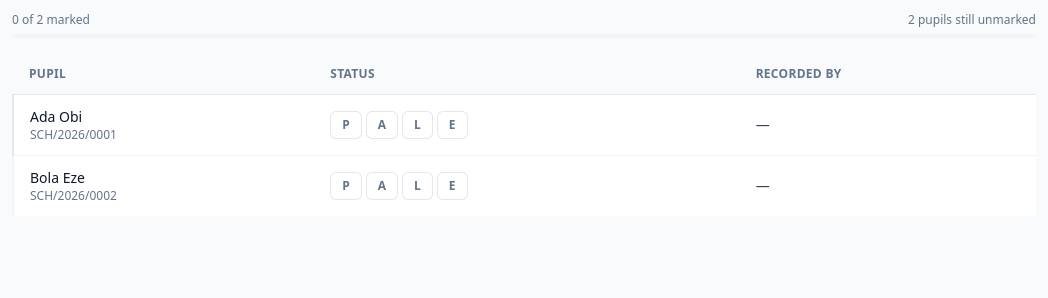
AttendanceRegisterGrid › keeps Mark register disabled while some students are still unmarked
Click the radio button named "Present".
click(346, 125)  # box [330, 111, 362, 139]
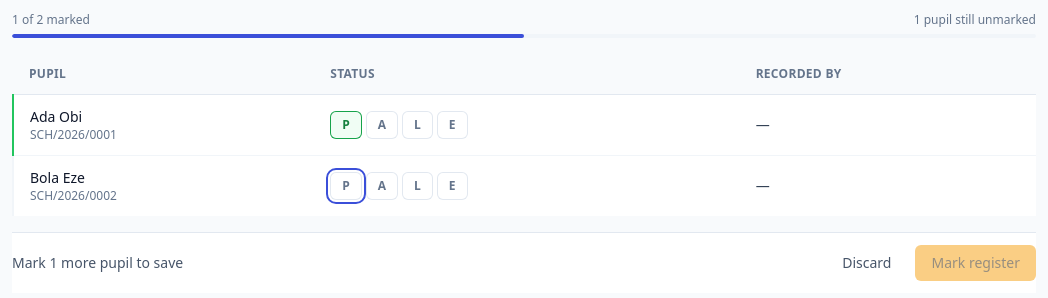
expect the text "1 of 2 marked" is shown: met, box [12, 12, 90, 28]
expect the button "Mark register" is disabled: met, box [916, 245, 1036, 281]
expect the text "Mark 1 more pupil to save" is shown: met, box [12, 253, 183, 273]
